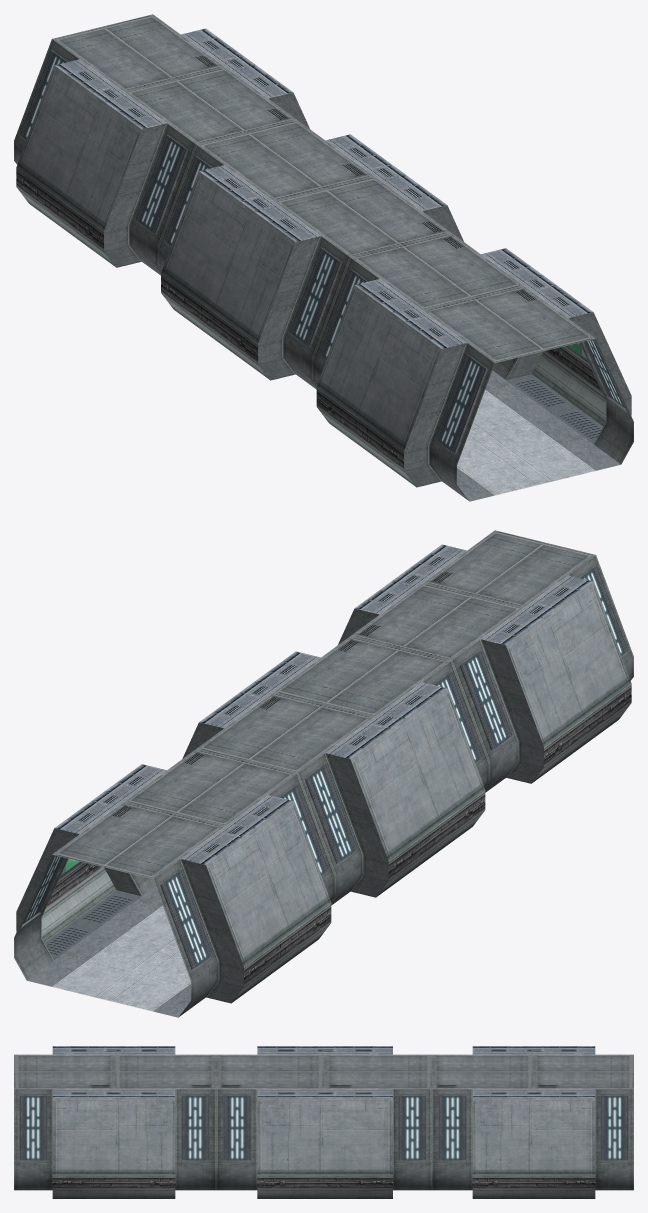
Rendered from thm_newbie_hall_r14_mesh_r14.fbx.
The picture shows the model from 3 angles, top to bottom: view 1: azimuth 30°, elevation 25°; view 2: azimuth 150°, elevation 25°; view 3: azimuth 270°, elevation 25°; orthographic projection. The views are drawn at different scales.
Visible parts, largest first — view 1: mesh_node; view 2: mesh_node; view 3: mesh_node.
Boxes of the visible parts, x1,y1,x2,y2 form: mesh_node: [14, 14, 633, 501]; mesh_node: [14, 530, 633, 1017]; mesh_node: [14, 1046, 633, 1198].
Bounding box in the file's own units: 9 × 5 × 30.37.
